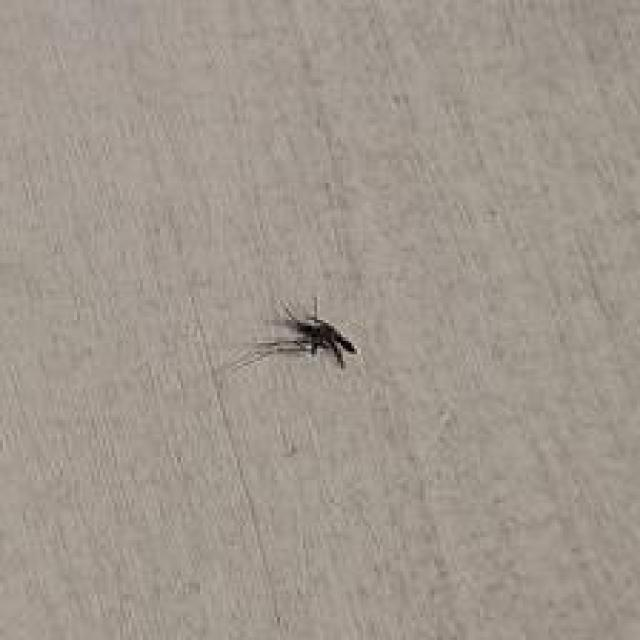Aedes albopictus: (222, 294, 358, 377)
